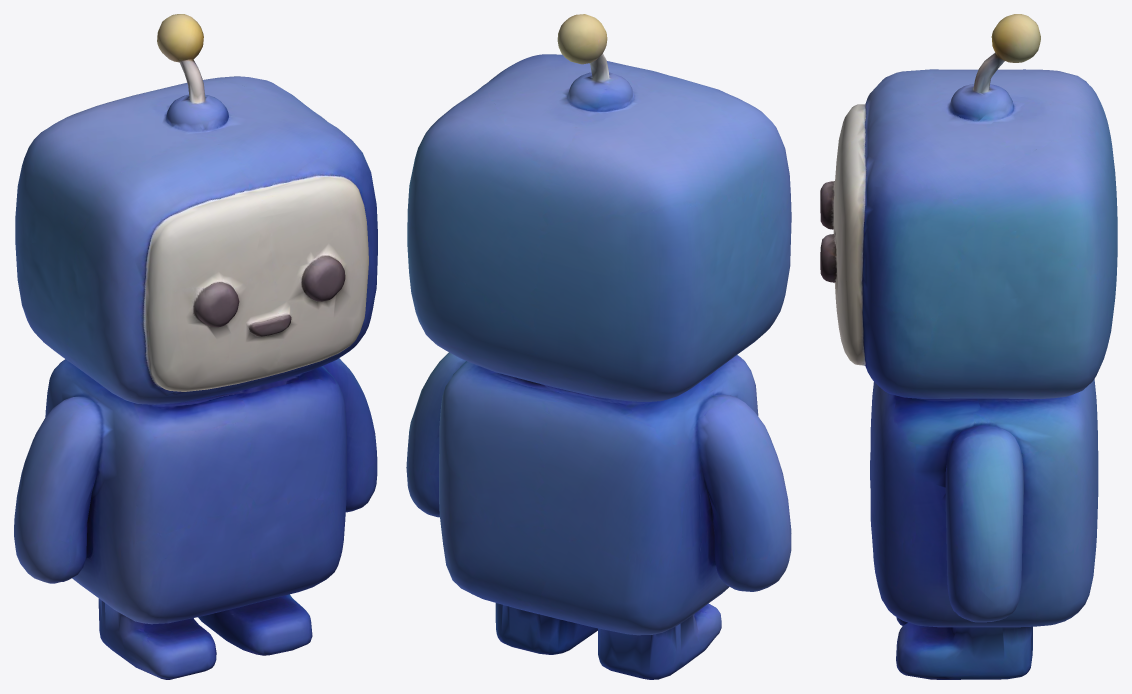
File: obj-axdx.glb
The picture shows the model from 3 angles, left to right: view 1: azimuth 30°, elevation 25°; view 2: azimuth 150°, elevation 25°; view 3: azimuth 270°, elevation 25°; orthographic projection. The views are drawn at different scales.
Visible parts, largest first — view 1: tripo_node_cf8289e8-d9c2-4061-8c8d-5602f4381638; view 2: tripo_node_cf8289e8-d9c2-4061-8c8d-5602f4381638; view 3: tripo_node_cf8289e8-d9c2-4061-8c8d-5602f4381638.
Boxes of the visible parts, left/top/right/bottom form: tripo_node_cf8289e8-d9c2-4061-8c8d-5602f4381638: left=14, top=14, right=377, bottom=679; tripo_node_cf8289e8-d9c2-4061-8c8d-5602f4381638: left=406, top=14, right=791, bottom=679; tripo_node_cf8289e8-d9c2-4061-8c8d-5602f4381638: left=820, top=14, right=1117, bottom=679.
Bounding box in the file's own units: 0.5869 × 0.9795 × 0.4205.
Materials: 1 (1 with a texture image).
